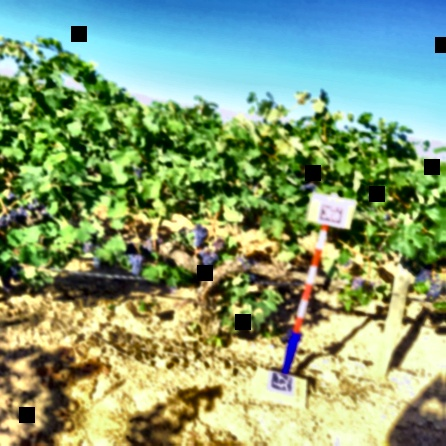QR: (319, 203, 347, 227), (271, 371, 296, 393)
